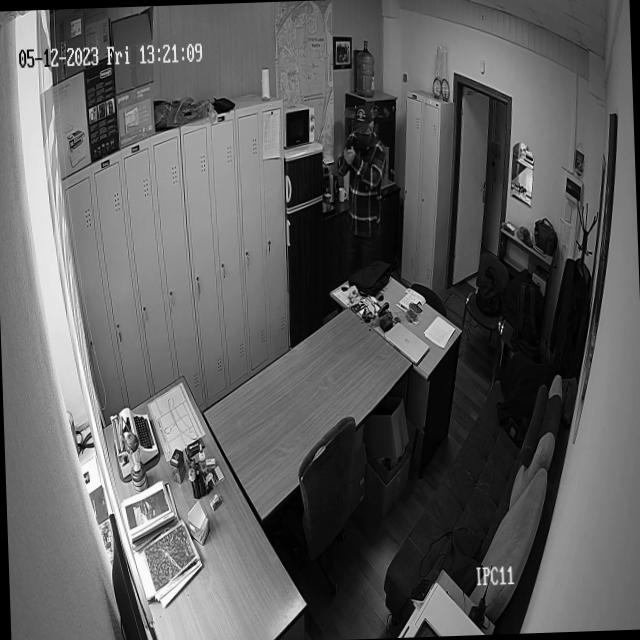gun: (350, 130, 360, 146)
person with a gun: (332, 103, 397, 260)
